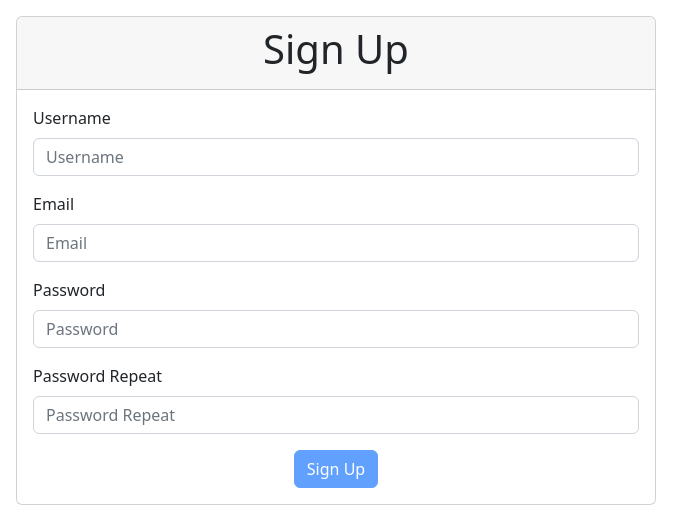
Test: Sign Up Page › interactions › enables the button when password and password repeat fields have same value
In the field with placeholder "Username": (336, 157) [33,138,639,176], type "user1"
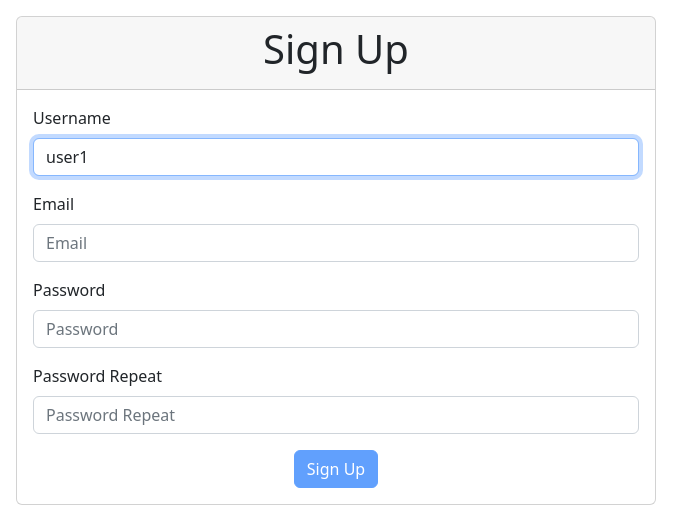
In the field with placeholder "Email": (336, 243) [33,224,639,262], type "user@gmail.com"
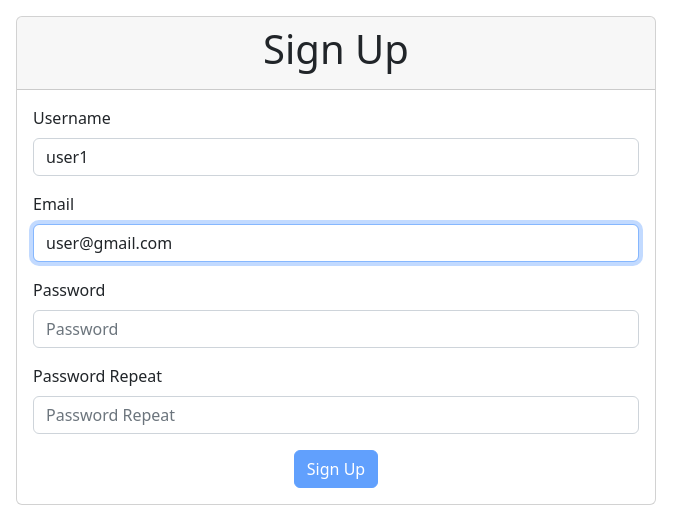
In the password field with placeholder "Password": (336, 329) [33,310,639,348], type "12345678"
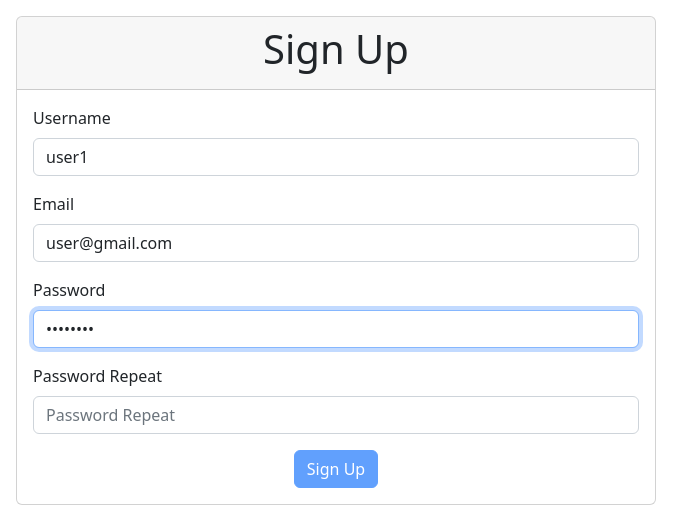
In the password field with placeholder "Password Repeat": (336, 415) [33,396,639,434], type "12345678"
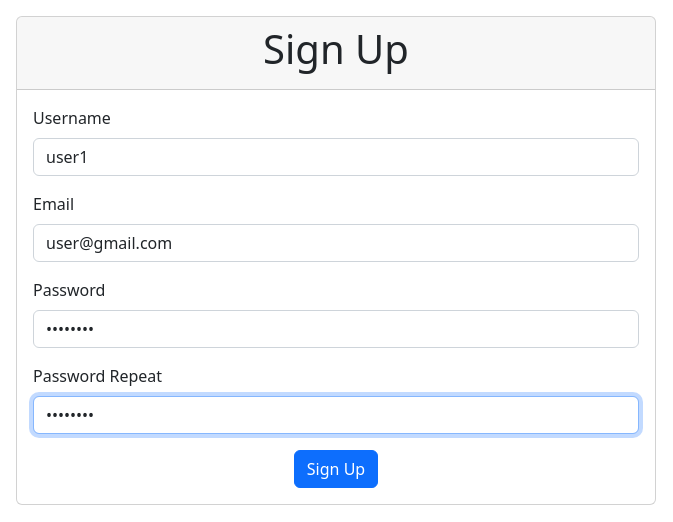
expect the button "Sign Up" is enabled: met, box [294,450,378,488]
